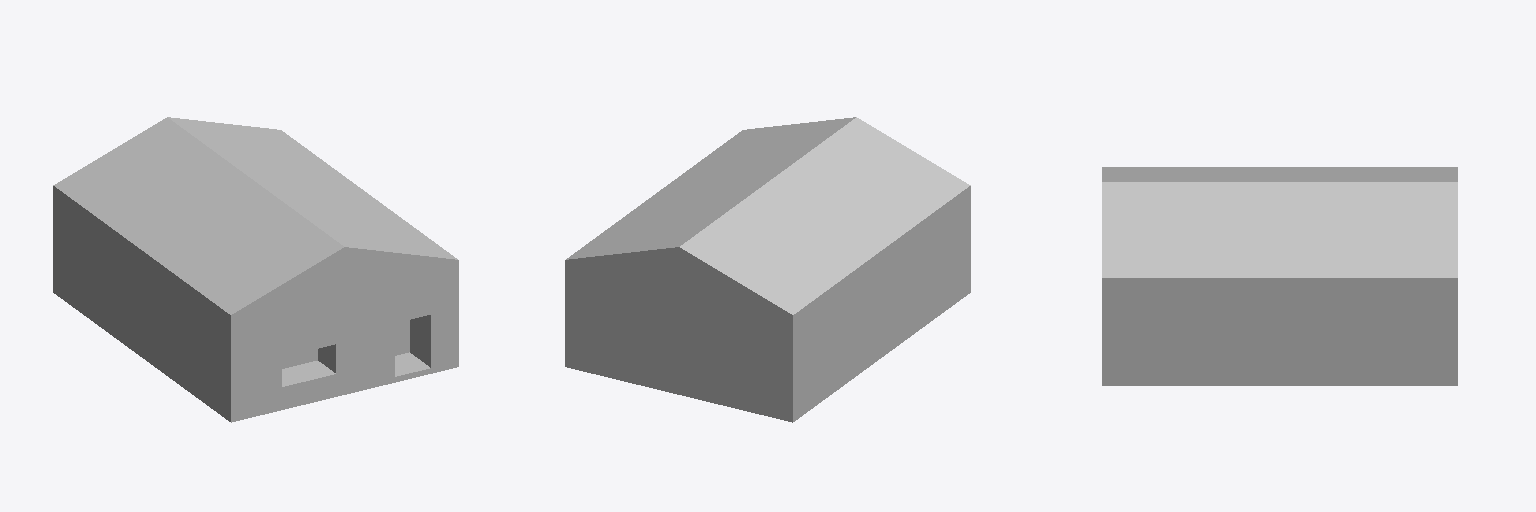
File: house2.obj
The picture shows the model from 3 angles: view 1: azimuth 30°, elevation 25°; view 2: azimuth 150°, elevation 25°; view 3: azimuth 270°, elevation 25°; orthographic projection.
Visible parts, largest first — view 1: 立方体.001; view 2: 立方体.001; view 3: 立方体.001.
Part boxes in pixels (bbox=[...]): 立方体.001: bbox=[53, 117, 458, 422]; 立方体.001: bbox=[565, 117, 970, 422]; 立方体.001: bbox=[1102, 167, 1457, 385].
Bounding box in the file's own units: 40 × 24.82 × 54.